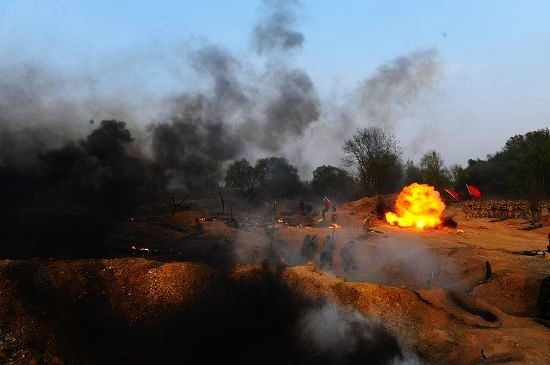fire: (383, 180, 450, 231)
